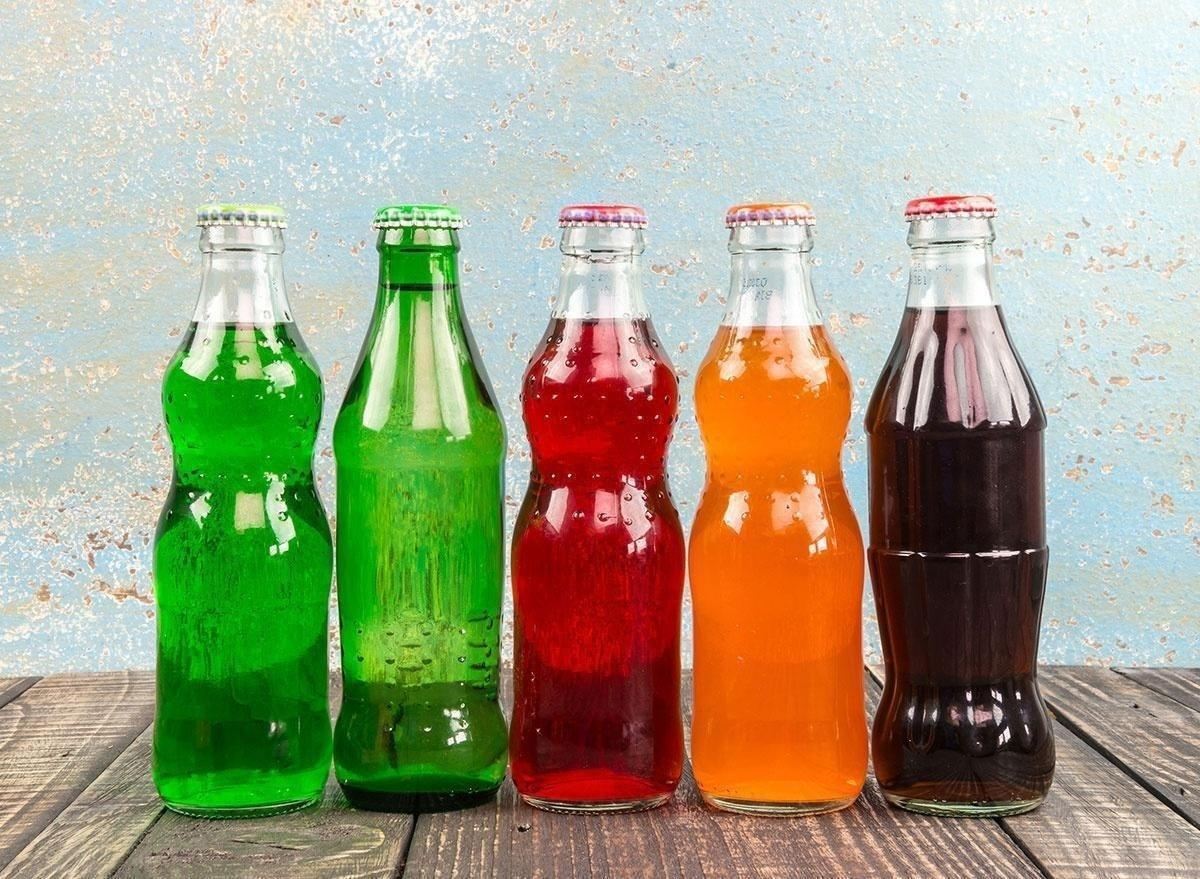bottle-glass: (857, 183, 1062, 827), (144, 194, 340, 824), (683, 190, 872, 822), (505, 195, 692, 820), (328, 194, 514, 816)
